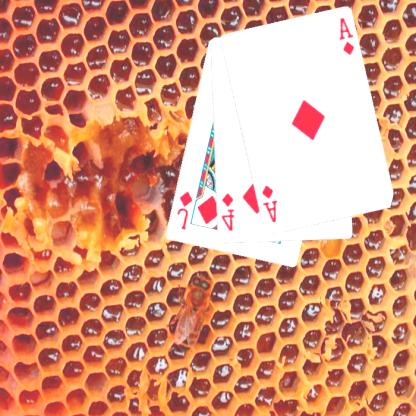4D: (221, 191, 237, 233)
AD: (260, 182, 280, 224), (338, 16, 357, 56)
JD: (176, 188, 196, 232)
